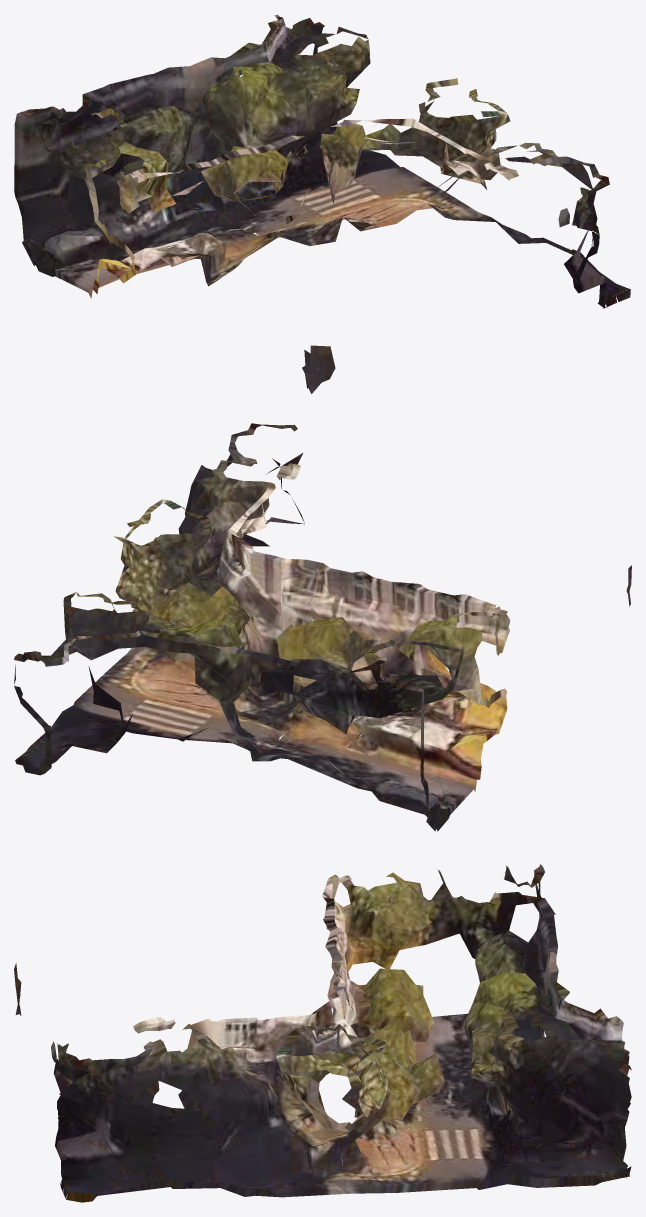
The picture shows the model from 3 angles, top to bottom: view 1: azimuth 30°, elevation 25°; view 2: azimuth 150°, elevation 25°; view 3: azimuth 270°, elevation 25°; orthographic projection. The views are drawn at different scales.
Visible parts, largest first — view 1: Mesh_0; view 2: Mesh_0; view 3: Mesh_0.
Part boxes in pixels (bbox=[...]): Mesh_0: bbox=[14, 14, 630, 393]; Mesh_0: bbox=[14, 423, 631, 831]; Mesh_0: bbox=[14, 864, 631, 1202].
Size of the model in its own units: 33.04 by 12.11 by 41.5.
1 material, 1 textured.
